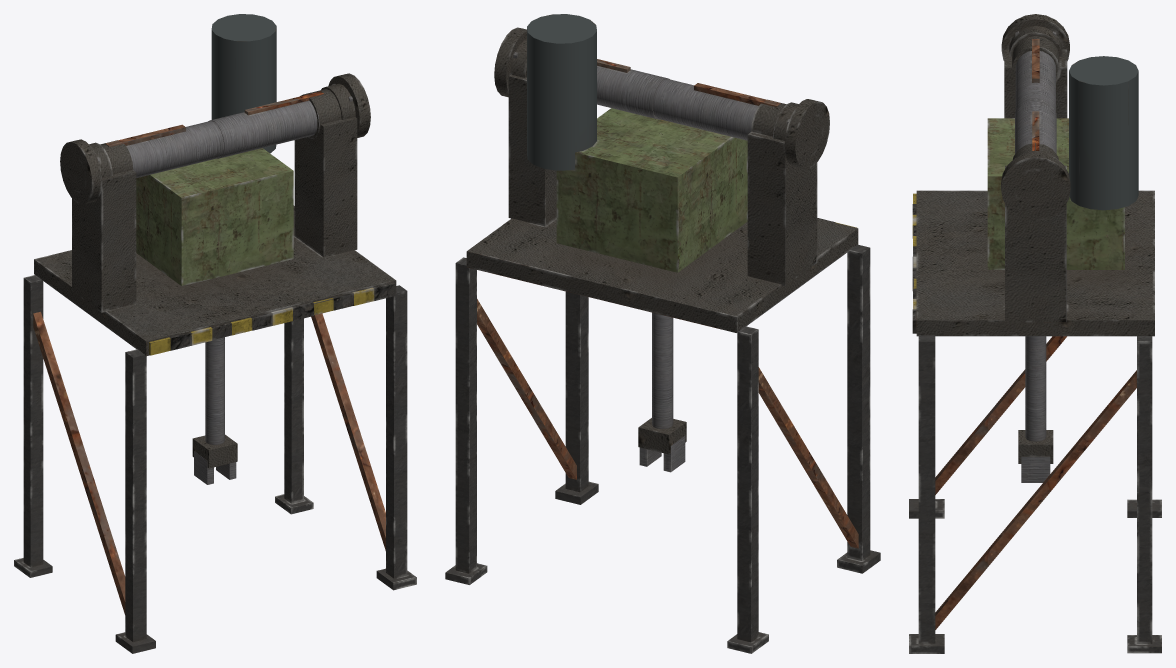
Rendered from feInserter_HD.fbx.
3 views of the same model, side by side, from view 1: azimuth 30°, elevation 25°; view 2: azimuth 150°, elevation 25°; view 3: azimuth 270°, elevation 25° (orthographic). The views are drawn at different scales.
Visible parts, largest first — view 1: feInserter_Base, FeReach_Legs, FeSpin_DriveShaft, FePiston_InlinePick; view 2: feInserter_Base, FeReach_Legs, FeSpin_DriveShaft, FePiston_InlinePick; view 3: feInserter_Base, FeReach_Legs, FeSpin_DriveShaft, FePiston_InlinePick.
Part boxes in pixels (bbox=[...]): feInserter_Base: bbox=[34, 14, 396, 356]; FeReach_Legs: bbox=[14, 275, 416, 653]; FeSpin_DriveShaft: bbox=[60, 73, 370, 204]; FePiston_InlinePick: bbox=[192, 337, 237, 484]; feInserter_Base: bbox=[466, 14, 858, 332]; FeReach_Legs: bbox=[445, 244, 880, 653]; FeSpin_DriveShaft: bbox=[494, 27, 829, 169]; FePiston_InlinePick: bbox=[638, 312, 686, 472]; feInserter_Base: bbox=[912, 36, 1154, 336]; FeReach_Legs: bbox=[909, 335, 1161, 653]; FeSpin_DriveShaft: bbox=[1001, 14, 1070, 220]; FePiston_InlinePick: bbox=[1018, 336, 1053, 482].
Bounding box in the file's own units: 1.02 × 1.75 × 0.743.
1 material, 1 textured.
